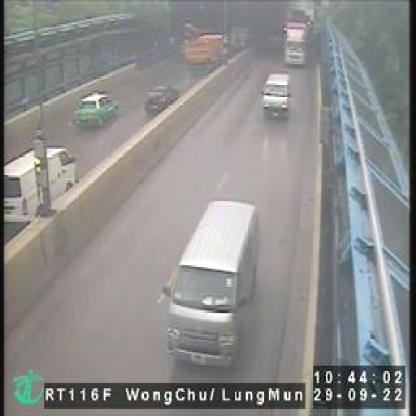Car: (159, 196, 261, 369), (0, 137, 81, 222), (70, 83, 117, 132), (255, 70, 291, 122), (144, 80, 180, 114)
Truck: (280, 7, 312, 68)
